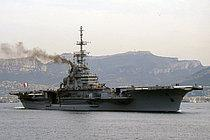MIL_Ship: (9, 25, 205, 113)
